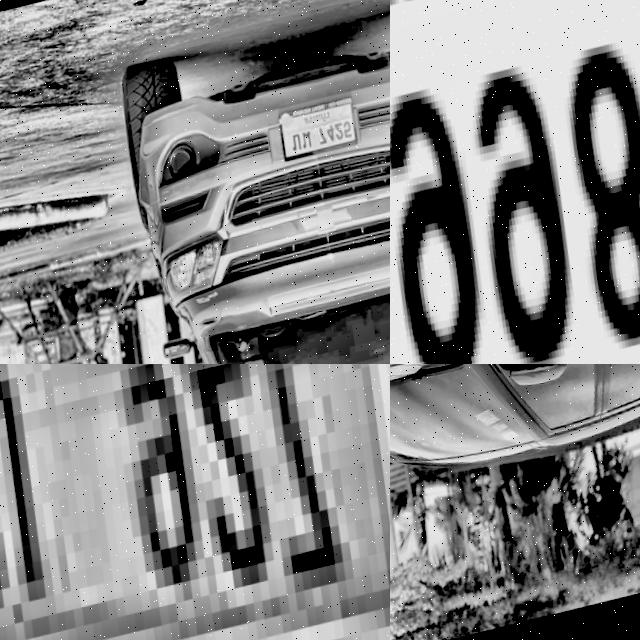license-plate: (0, 364, 390, 640), (390, 0, 640, 364), (275, 98, 361, 171)
